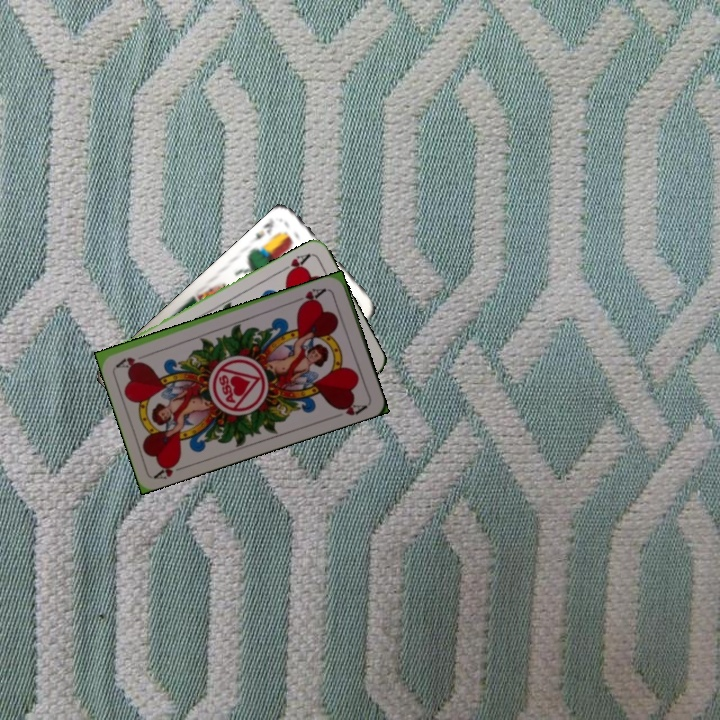EK: (248, 217, 277, 245)
HA: (276, 250, 313, 279), (151, 456, 191, 482), (294, 284, 331, 309)
